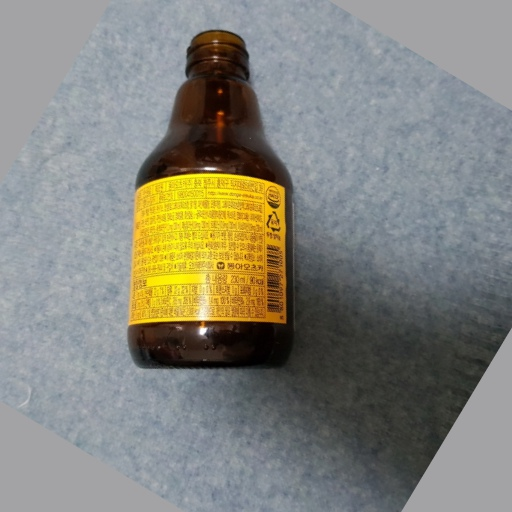Glass_3: (125, 30, 293, 371)
